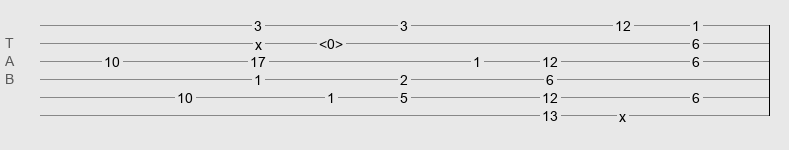1: (254, 72, 262, 82), (327, 90, 335, 100), (473, 54, 481, 64), (692, 18, 700, 28)
10: (104, 54, 120, 64), (177, 90, 193, 100)
12: (542, 90, 558, 100), (542, 54, 558, 64), (615, 18, 631, 28)
13: (542, 108, 558, 118)
17: (250, 54, 266, 64)
2: (400, 72, 408, 82)
3: (254, 18, 262, 28), (400, 18, 408, 28)
5: (400, 90, 408, 100)
6: (546, 72, 554, 82), (692, 54, 700, 64), (692, 90, 700, 100), (692, 36, 700, 46)
harmonic: (319, 36, 343, 46)
x: (255, 37, 262, 45), (619, 109, 626, 117)
